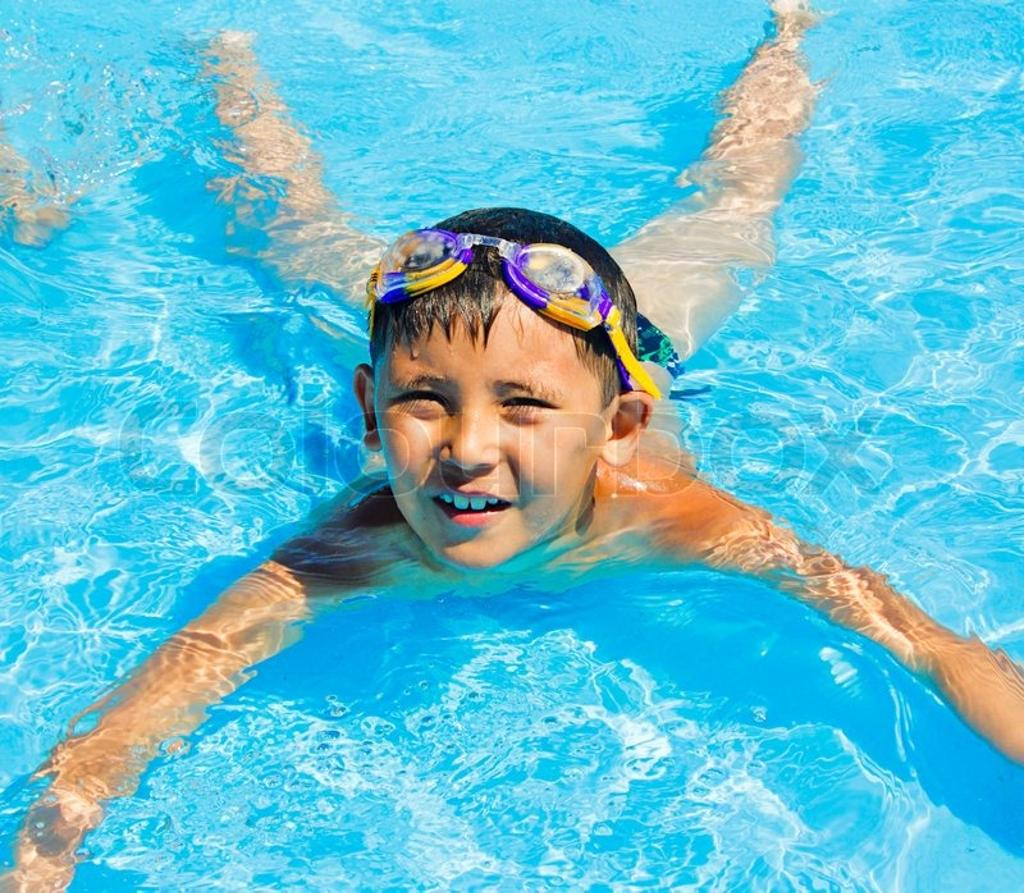face: (370, 328, 588, 568)
